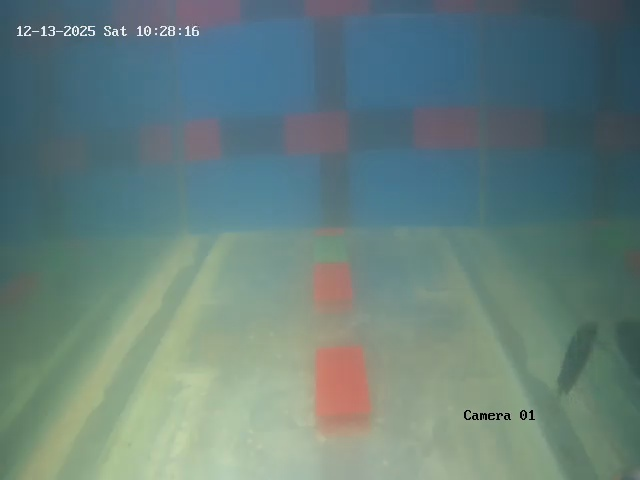fish: (547, 316, 608, 394)
